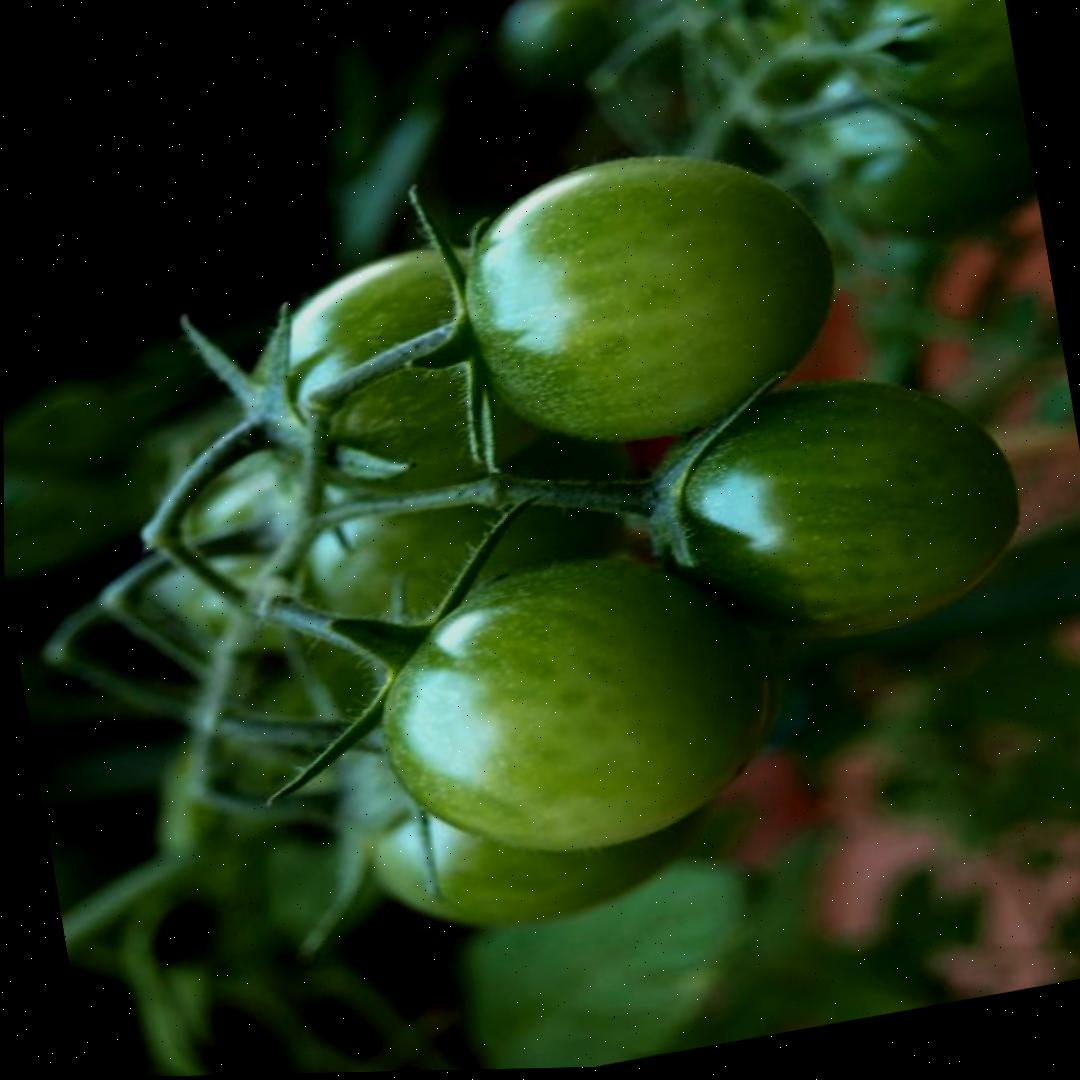mentah: (358, 525, 791, 883), (441, 123, 858, 472), (624, 349, 1037, 670)
